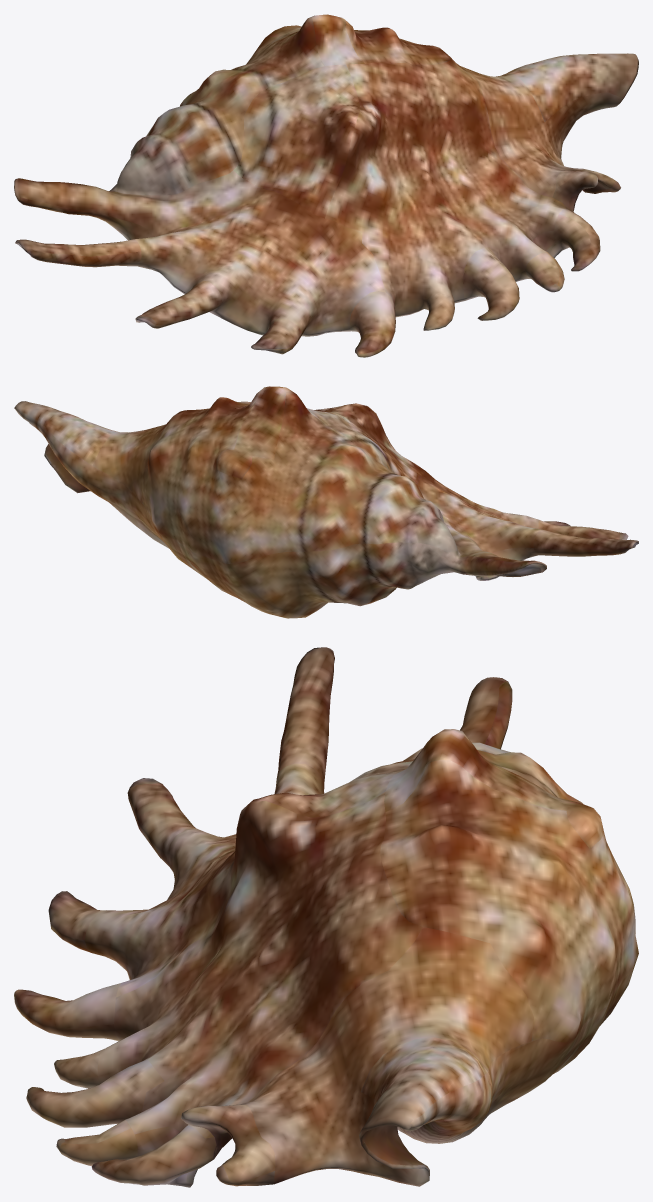
Rendered from lambis_shell.glb.
3 renders of one model, top to bottom at view 1: azimuth 30°, elevation 25°; view 2: azimuth 150°, elevation 25°; view 3: azimuth 270°, elevation 25°, orthographic. The views are drawn at different scales.
Parts seen in each view (by area): view 1: lambis_shell; view 2: lambis_shell; view 3: lambis_shell.
Boxes of the visible parts, left/top/right/bottom form: lambis_shell: left=14, top=14, right=638, bottom=357; lambis_shell: left=14, top=386, right=638, bottom=618; lambis_shell: left=14, top=647, right=638, bottom=1187.
Size of the model in its own units: 0.1395 by 0.0465 by 0.0745.
Materials: 1 (1 with a texture image).
